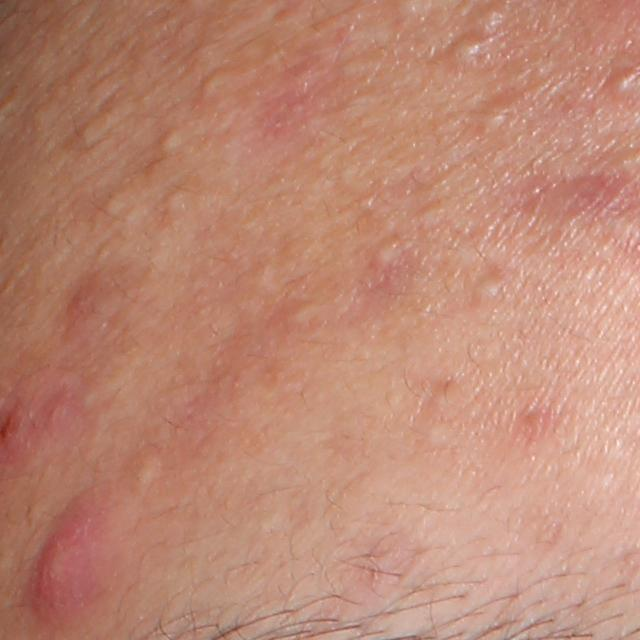comedo: (123, 446, 165, 493), (72, 108, 113, 148), (473, 94, 508, 136), (448, 36, 493, 64), (468, 270, 505, 302), (195, 69, 229, 101), (416, 421, 450, 452), (475, 2, 510, 30), (370, 237, 400, 267), (159, 121, 188, 151), (160, 187, 190, 213), (102, 191, 127, 218)
papule: (25, 517, 99, 620)
